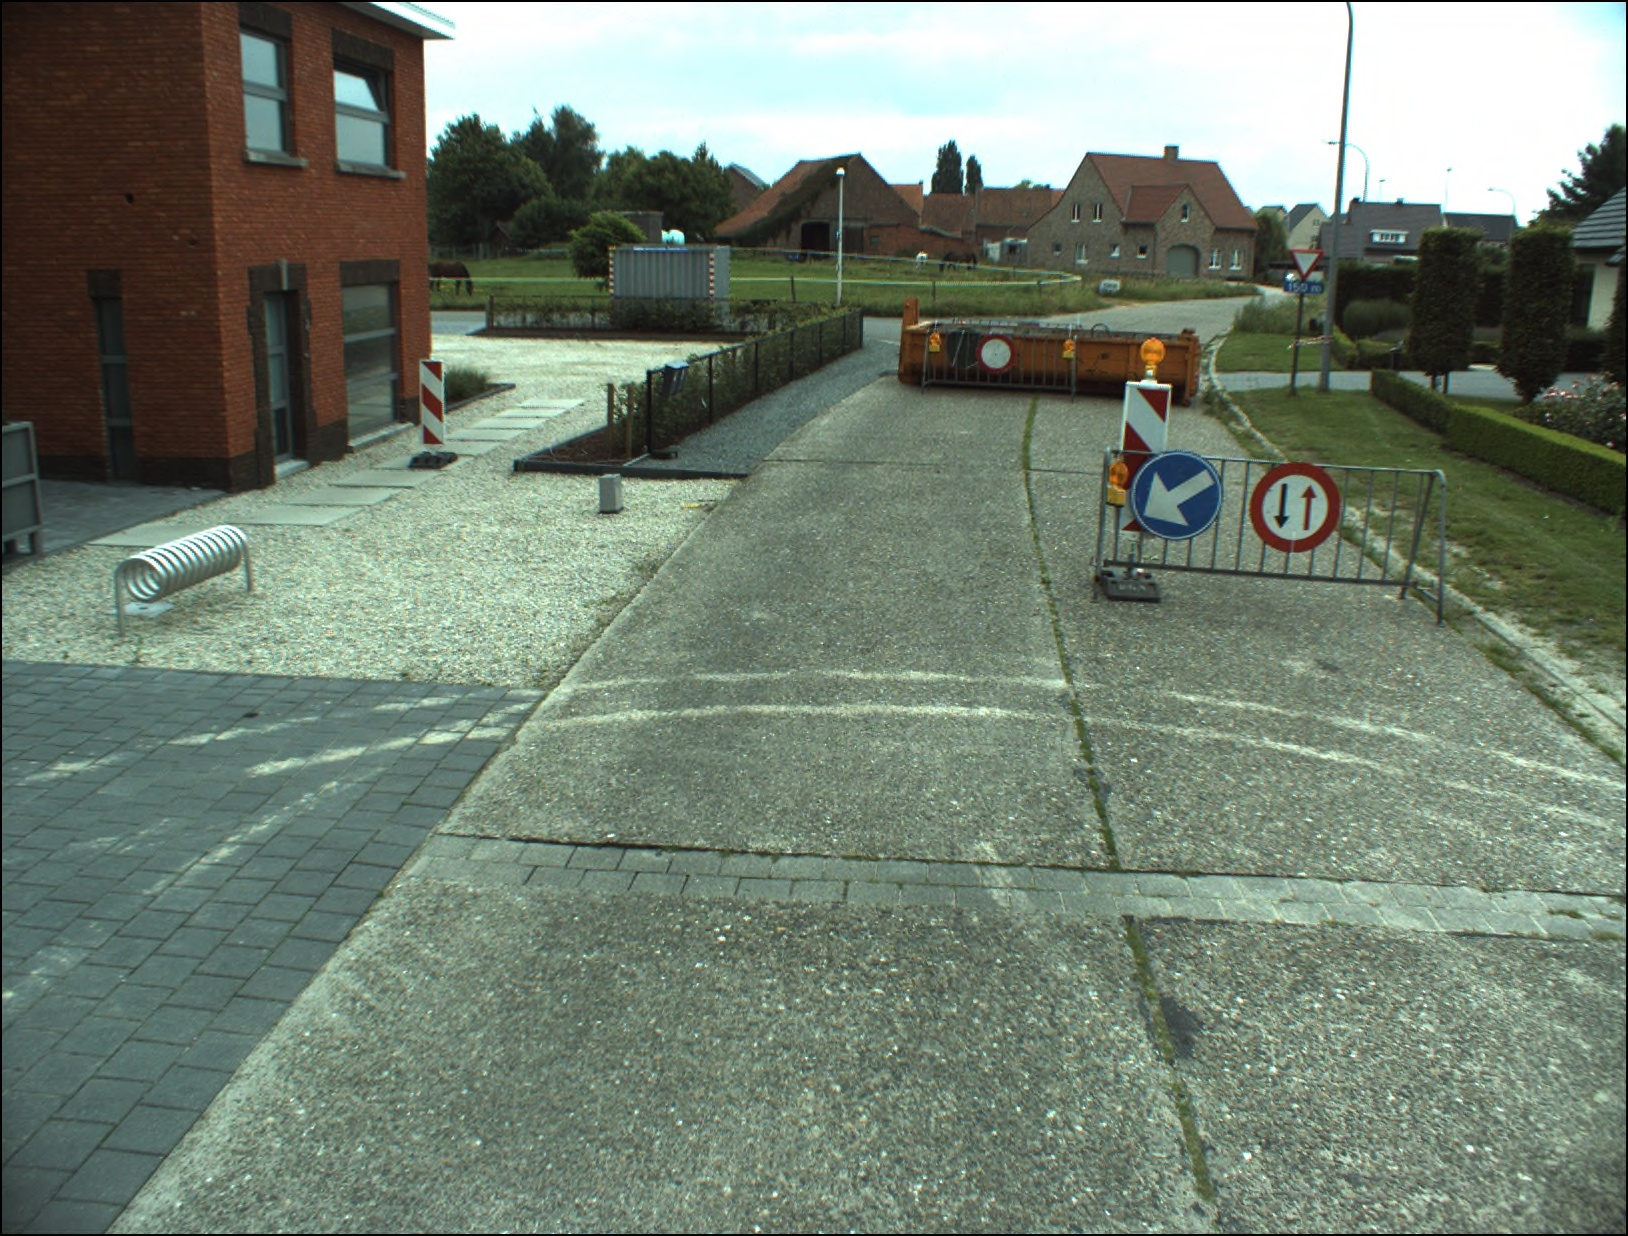forbidden: (978, 336, 1014, 373)
giveway: (1289, 248, 1322, 278)
passleft: (1129, 454, 1220, 539)
roadnarrow2: (1248, 465, 1341, 554)
